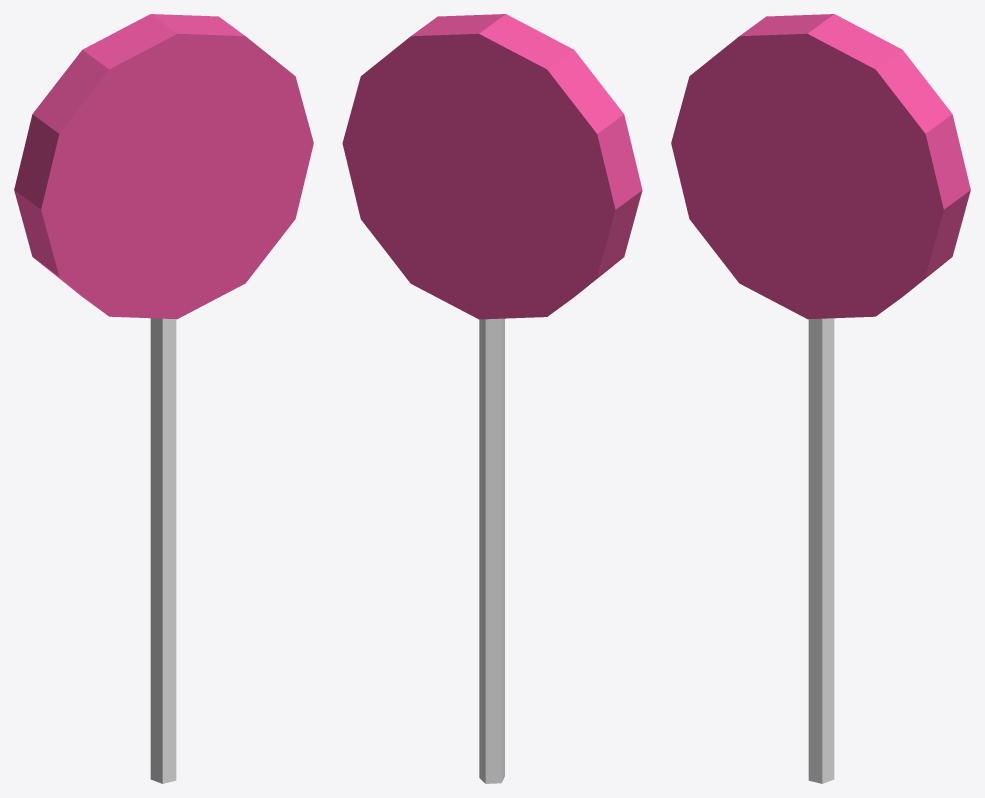
Rendered from lollipop.glb.
3 views of the same model, side by side, from view 1: azimuth 30°, elevation 25°; view 2: azimuth 150°, elevation 25°; view 3: azimuth 330°, elevation 25° (orthographic).
Visible parts, largest first — view 1: lollipop; view 2: lollipop; view 3: lollipop.
Boxes of the visible parts, <box> form: lollipop: <box>14,14,313,783</box>; lollipop: <box>342,14,642,783</box>; lollipop: <box>671,14,970,783</box>.
Bounding box in the file's own units: 0.07 × 0.185 × 0.012.
